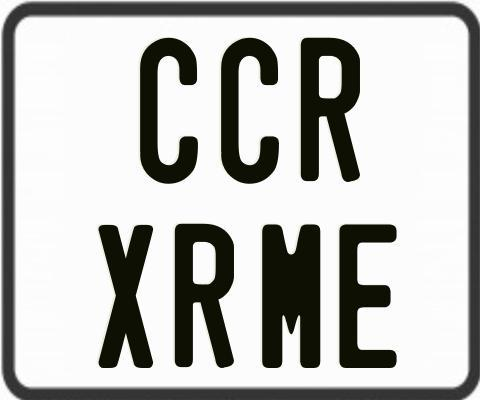C: (138, 37, 202, 187), (221, 36, 279, 187)
E: (338, 224, 401, 371)
M: (259, 221, 323, 367)
R: (301, 36, 363, 185), (175, 222, 236, 371)
X: (99, 222, 155, 369)
